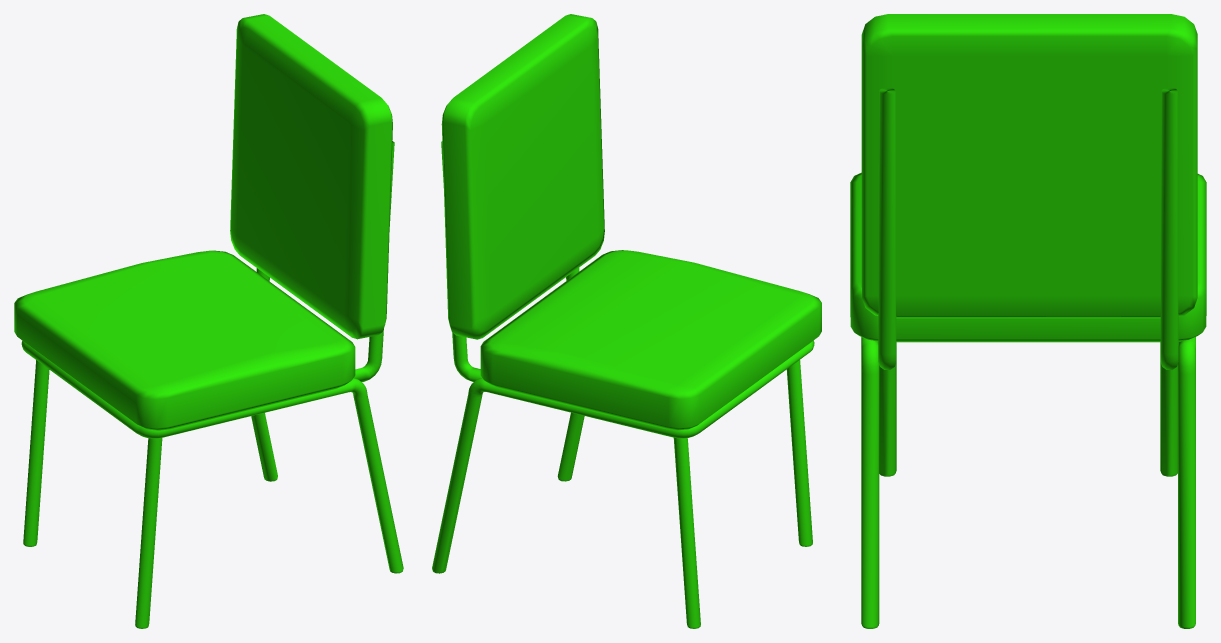
File: Chair_02_Lod0.fbx
3 renders of one model, left to right at view 1: azimuth 30°, elevation 25°; view 2: azimuth 150°, elevation 25°; view 3: azimuth 270°, elevation 25°, orthographic. The views are drawn at different scales.
Visible parts, largest first — view 1: Chair_02_Lod0; view 2: Chair_02_Lod0; view 3: Chair_02_Lod0.
Part boxes in pixels (<box>): Chair_02_Lod0: <box>14,14,403,628</box>; Chair_02_Lod0: <box>432,14,821,628</box>; Chair_02_Lod0: <box>850,14,1206,628</box>.
Size of the model in its own units: 52.23 by 89.29 by 48.54.
